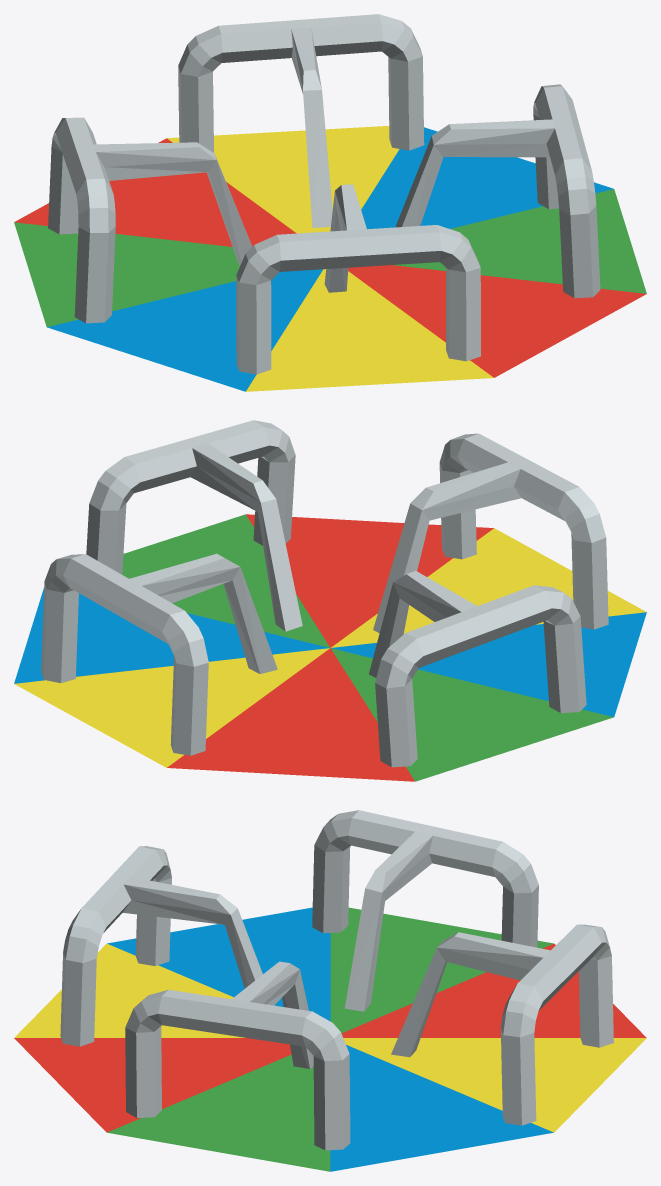
The model's file is carousel.glb.
3 views of the same model, one above another, from view 1: azimuth 30°, elevation 25°; view 2: azimuth 150°, elevation 25°; view 3: azimuth 270°, elevation 25° (orthographic). The views are drawn at different scales.
Parts seen in each view (by area): view 1: group1857094099; view 2: group1857094099; view 3: group1857094099.
Part boxes in pixels (<box>): group1857094099: <box>14,14,646,391</box>; group1857094099: <box>14,420,646,781</box>; group1857094099: <box>14,810,646,1171</box>.
Bounding box in the file's own units: 9 × 2.62 × 9.
